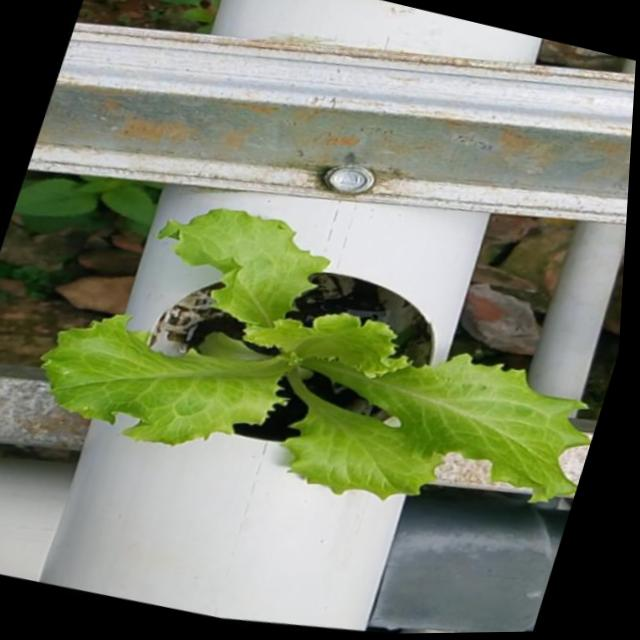Baby: (39, 201, 590, 494)
